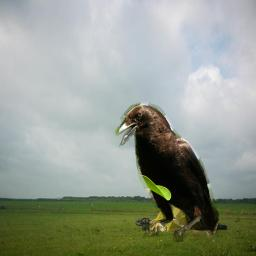Crow: (115, 102, 219, 242)
